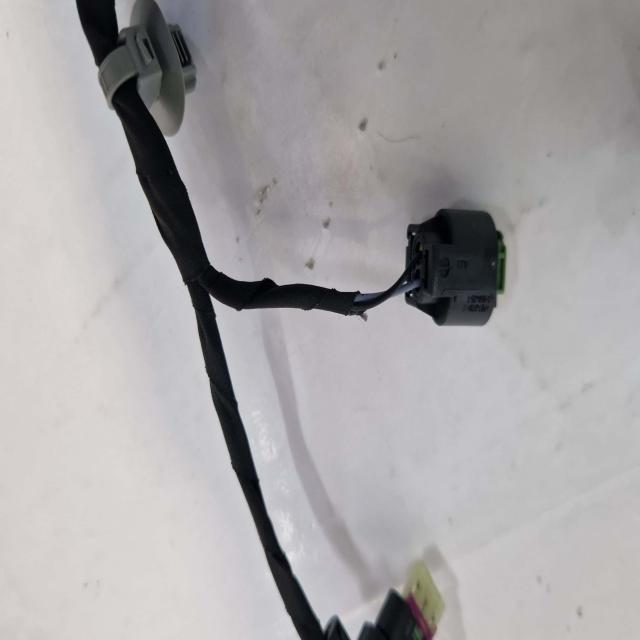Clip: (97, 0, 199, 142)
Connector: (405, 207, 508, 325)
Gape: (343, 258, 417, 342)
MHEV_N11_Cable: (112, 76, 358, 627), (74, 0, 118, 78)
